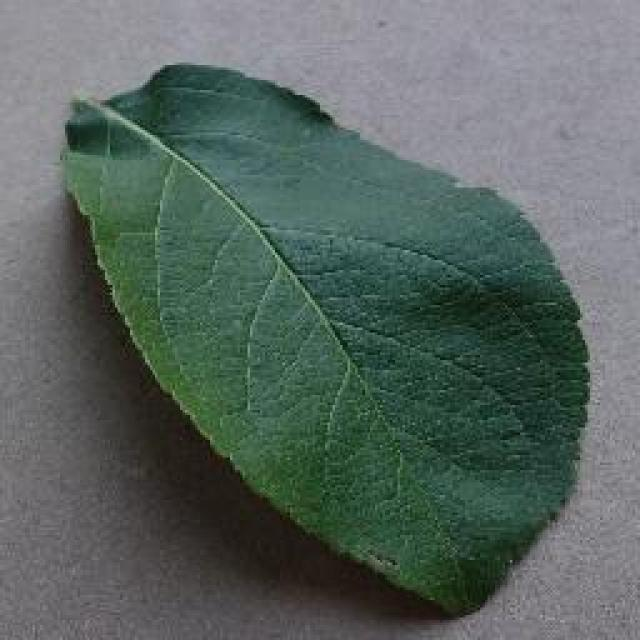apple scab disease: (58, 58, 592, 618)
